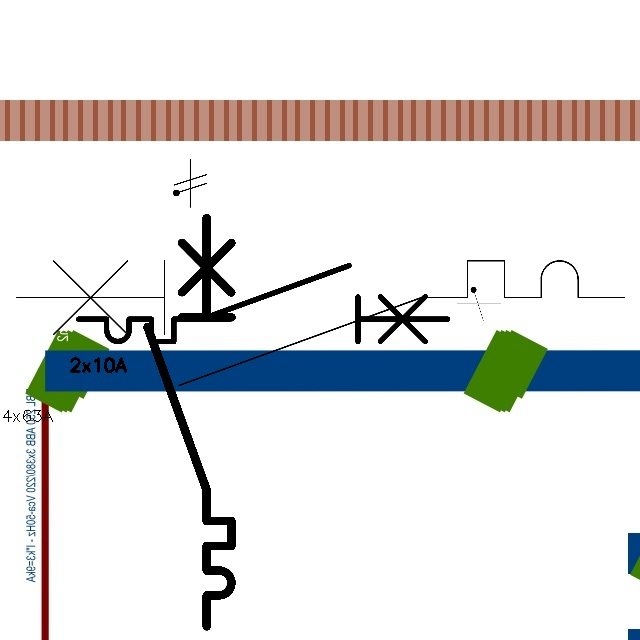interruptor_termomagnetico: (1, 245, 640, 401), (137, 207, 242, 637), (69, 256, 457, 351)
